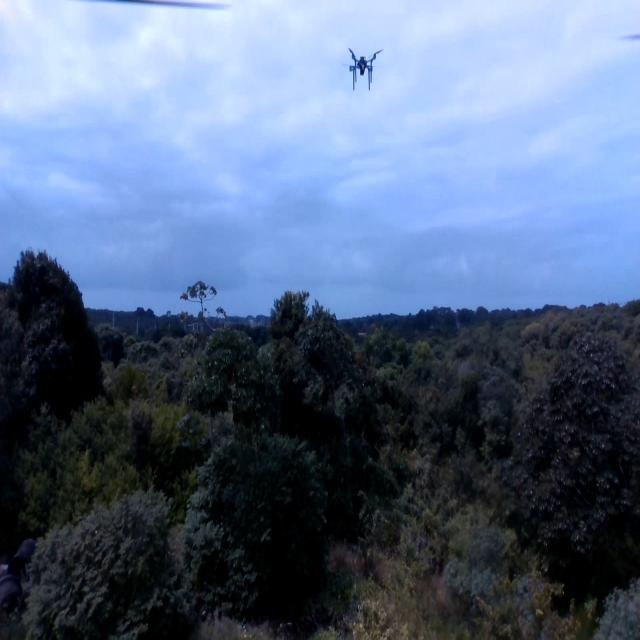-uav-: (342, 41, 386, 101)
